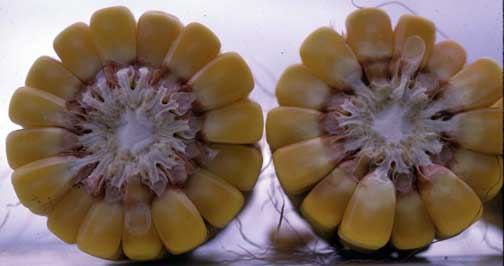corn: (6, 0, 266, 262), (267, 8, 503, 251)
